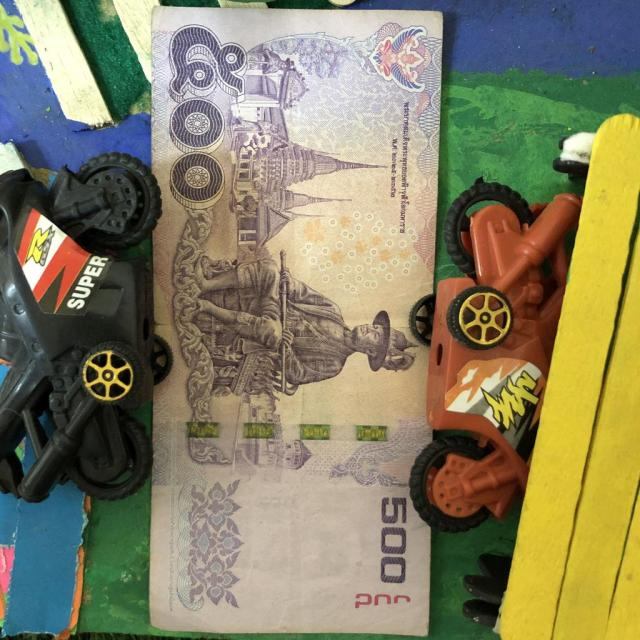THAI500: (148, 6, 444, 639)
